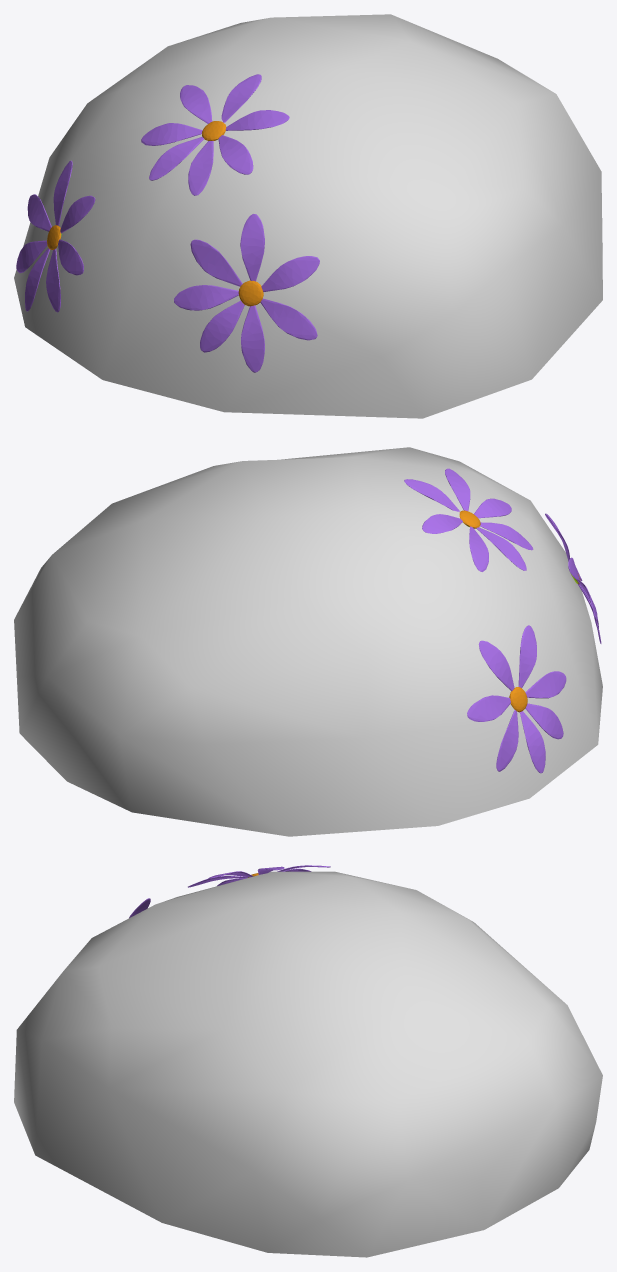
Rendered from BushSimple.fbx.
The picture shows the model from 3 angles, top to bottom: view 1: azimuth 30°, elevation 25°; view 2: azimuth 150°, elevation 25°; view 3: azimuth 270°, elevation 25°; orthographic projection. The views are drawn at different scales.
Parts seen in each view (by area): view 1: Icosphere, Cube.003, Cube.002, Cube.001; view 2: Icosphere, Cube.001, Cube.002, Cube.003; view 3: Icosphere, Cube.002.
Boxes of the visible parts, <box> form: Icosphere: <box>14,14,602,418</box>; Cube.003: <box>174,214,319,372</box>; Cube.002: <box>141,74,289,195</box>; Cube.001: <box>16,160,95,312</box>; Icosphere: <box>14,447,602,836</box>; Cube.001: <box>467,625,566,773</box>; Cube.002: <box>404,468,533,571</box>; Cube.003: <box>545,513,601,643</box>; Icosphere: <box>14,871,602,1257</box>; Cube.002: <box>188,865,330,887</box>.
Bounding box in the file's own units: 473 × 212 × 485.
